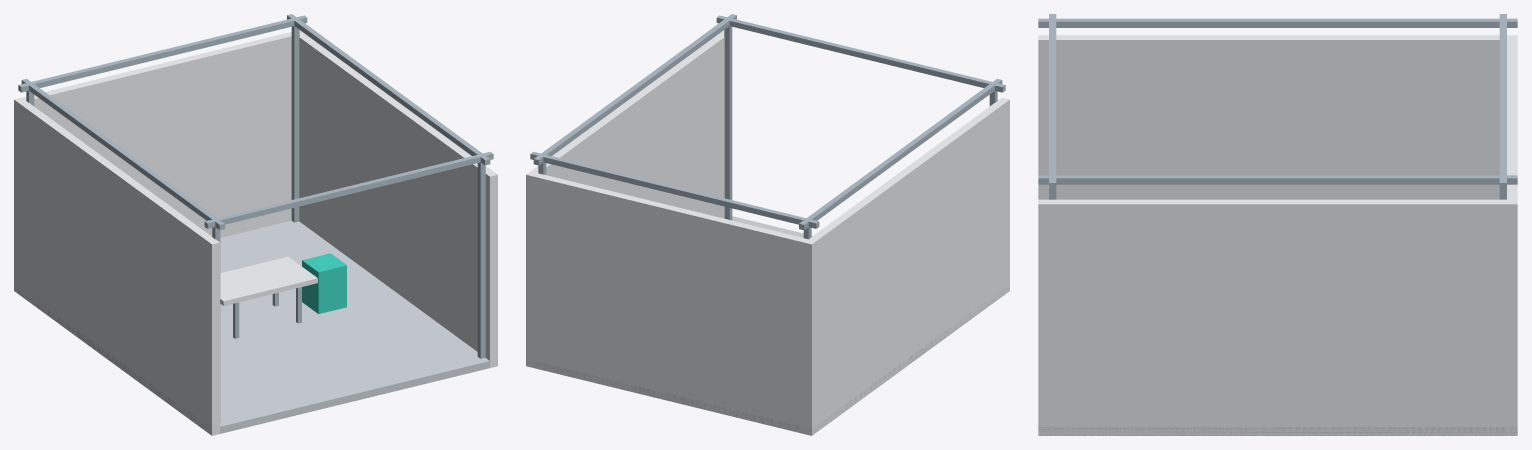
3 renders of one model, left to right at view 1: azimuth 30°, elevation 25°; view 2: azimuth 150°, elevation 25°; view 3: azimuth 270°, elevation 25°, orthographic. The views are drawn at different scales.
Parts seen in each view (by area): view 1: Exhibition Booth Concept; view 2: Exhibition Booth Concept; view 3: Exhibition Booth Concept.
Boxes of the visible parts, left/top/right/bottom form: Exhibition Booth Concept: left=14, top=14, right=497, bottom=435; Exhibition Booth Concept: left=526, top=14, right=1009, bottom=435; Exhibition Booth Concept: left=1038, top=14, right=1517, bottom=435.
Bounding box in the file's own units: 5 × 3.49 × 6.
